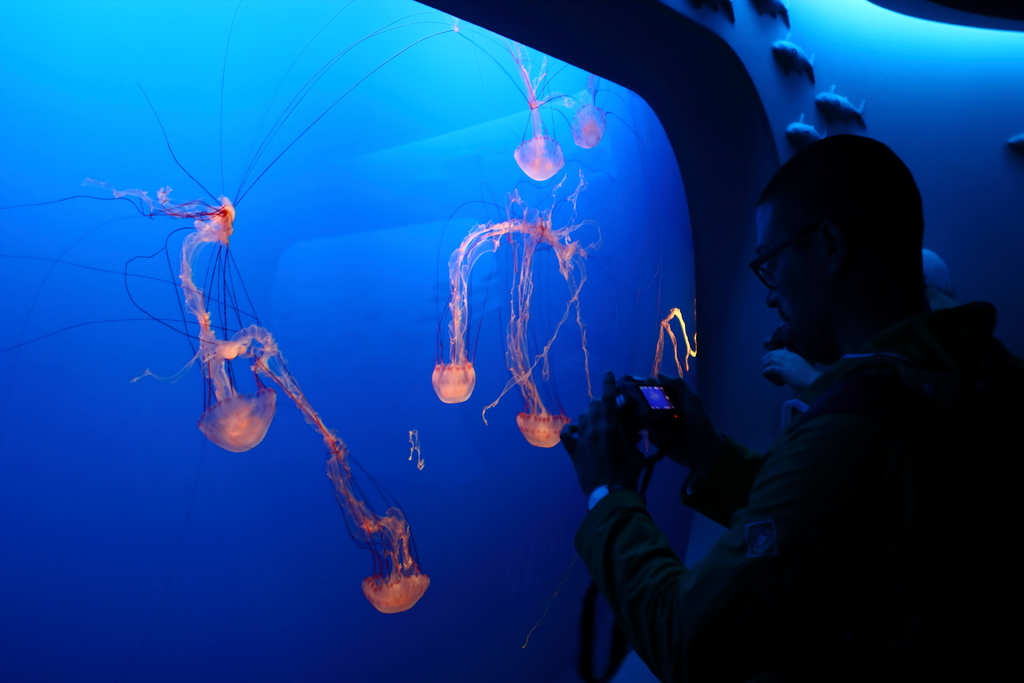Jellyfish: (0, 1, 456, 454), (254, 356, 430, 614), (428, 14, 577, 188), (423, 199, 544, 409), (494, 190, 587, 452), (551, 73, 634, 149)
